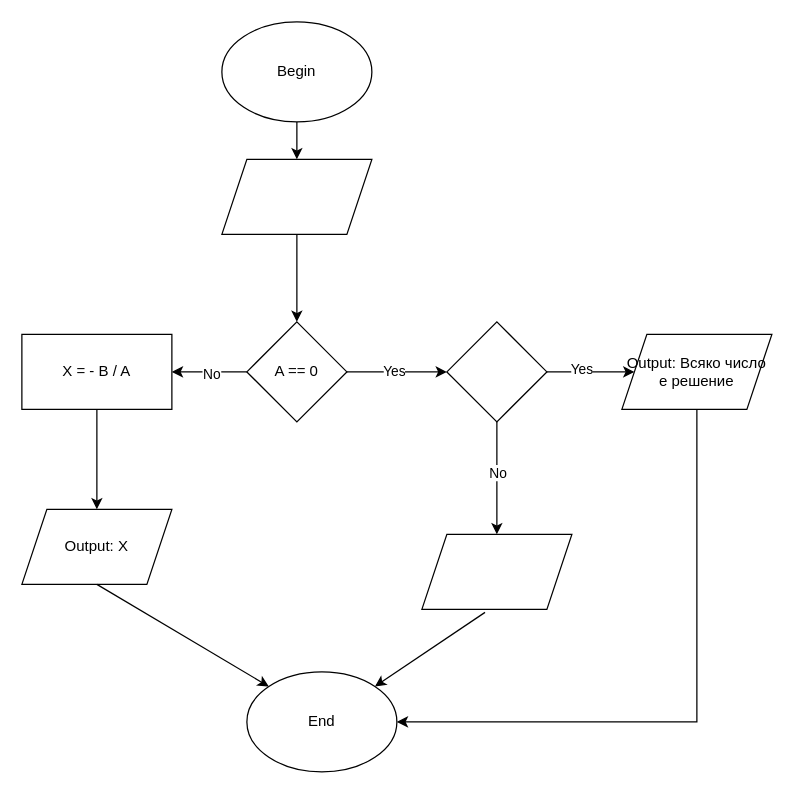
Image size: 794x794. Some labels were removed from this diagram. The shapes that lost their labels are listed below. From the top down, each one's centre as x and y in pixels, then its label:
At point (296, 196): "Input: A, B".
At point (496, 371): "B == 0".
At point (496, 571): "Output: Няма решение".
